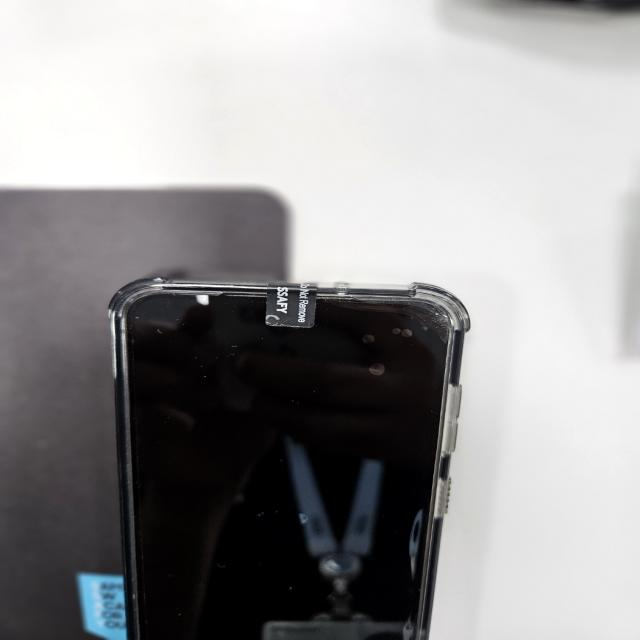phone: (102, 277, 455, 640)
sticker: (264, 279, 314, 328)
